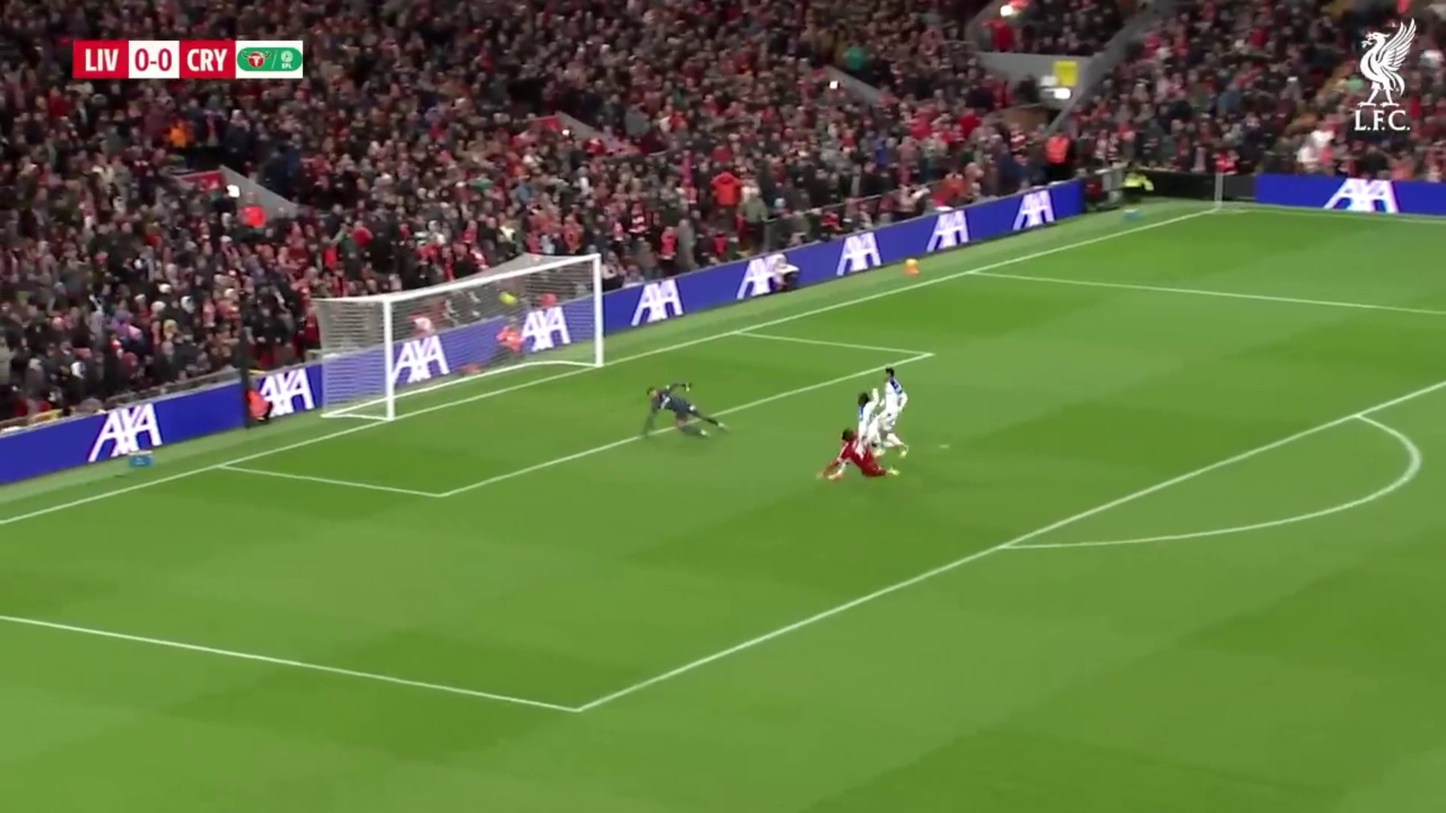player: (643, 381, 713, 439), (818, 426, 887, 483), (867, 369, 908, 456), (532, 292, 570, 352)
